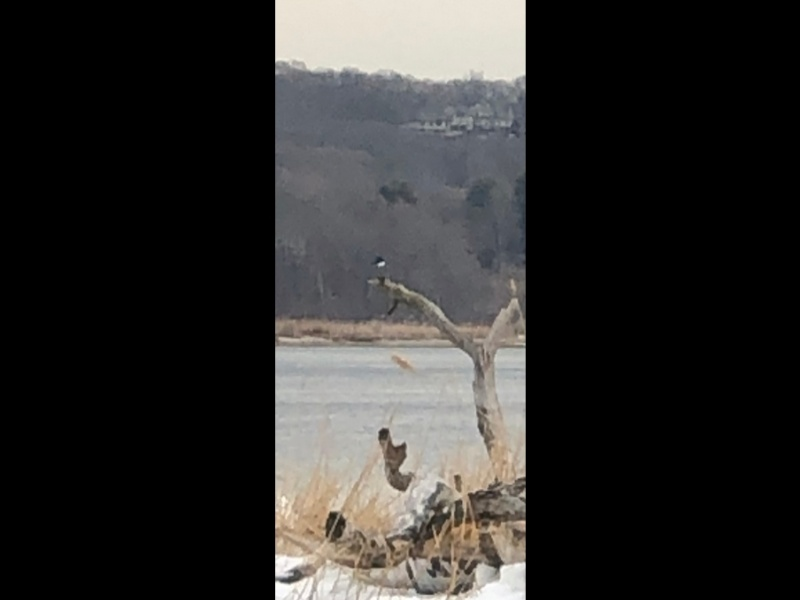kingfisher: (373, 254, 390, 281)
